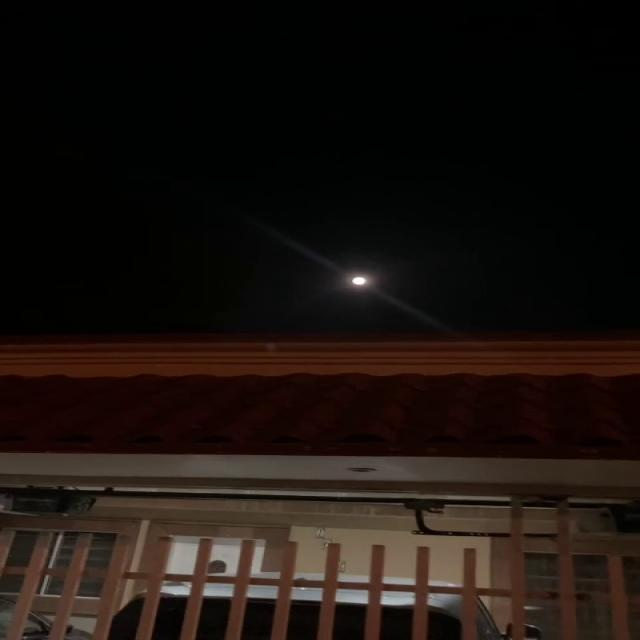moon: (340, 269, 374, 290)
